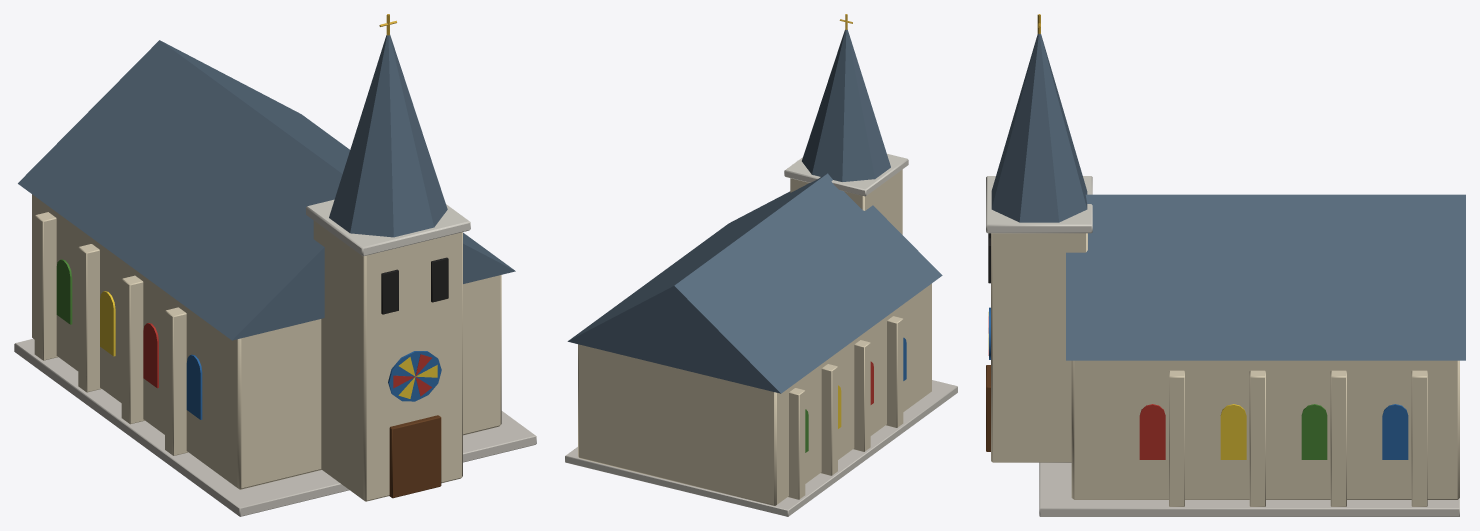
File: 129_eglise_notre_dame.fbx
The picture shows the model from 3 angles, left to right: view 1: azimuth 30°, elevation 25°; view 2: azimuth 150°, elevation 25°; view 3: azimuth 270°, elevation 25°; orthographic projection. The views are drawn at different scales.
Parts seen in each view (by area): view 1: Nef, Clocher, Vitraux; view 2: Nef, Clocher, Vitraux; view 3: Nef, Clocher, Vitraux.
Boxes of the visible parts, box(x1,y1,x2,y2) form: Nef: box(14, 40, 536, 516); Clocher: box(306, 14, 470, 501); Vitraux: box(56, 259, 441, 419); Nef: box(565, 173, 957, 516); Clocher: box(784, 14, 908, 234); Vitraux: box(805, 337, 906, 452); Nef: box(986, 194, 1465, 516); Clocher: box(986, 14, 1092, 462); Vitraux: box(988, 307, 1408, 459).
Bounding box in the file's own units: 5.6 × 8.4 × 8.4.
Materials: 1 (1 with a texture image).
